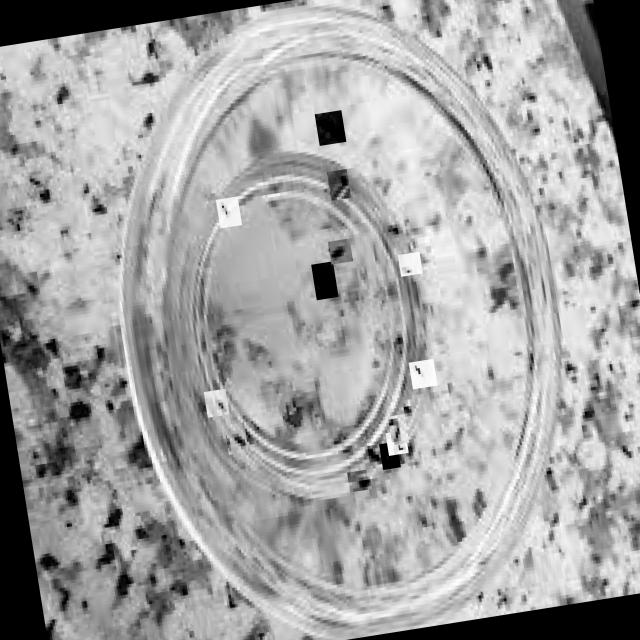fruit fly: (314, 110, 346, 146), (361, 439, 391, 476), (310, 262, 338, 300), (408, 358, 437, 389), (215, 196, 241, 228), (223, 422, 247, 456), (326, 169, 350, 201), (203, 389, 229, 418), (399, 398, 423, 428), (326, 238, 352, 264), (387, 414, 408, 445), (396, 252, 422, 277), (378, 442, 400, 470), (384, 430, 407, 456), (346, 470, 370, 492)
